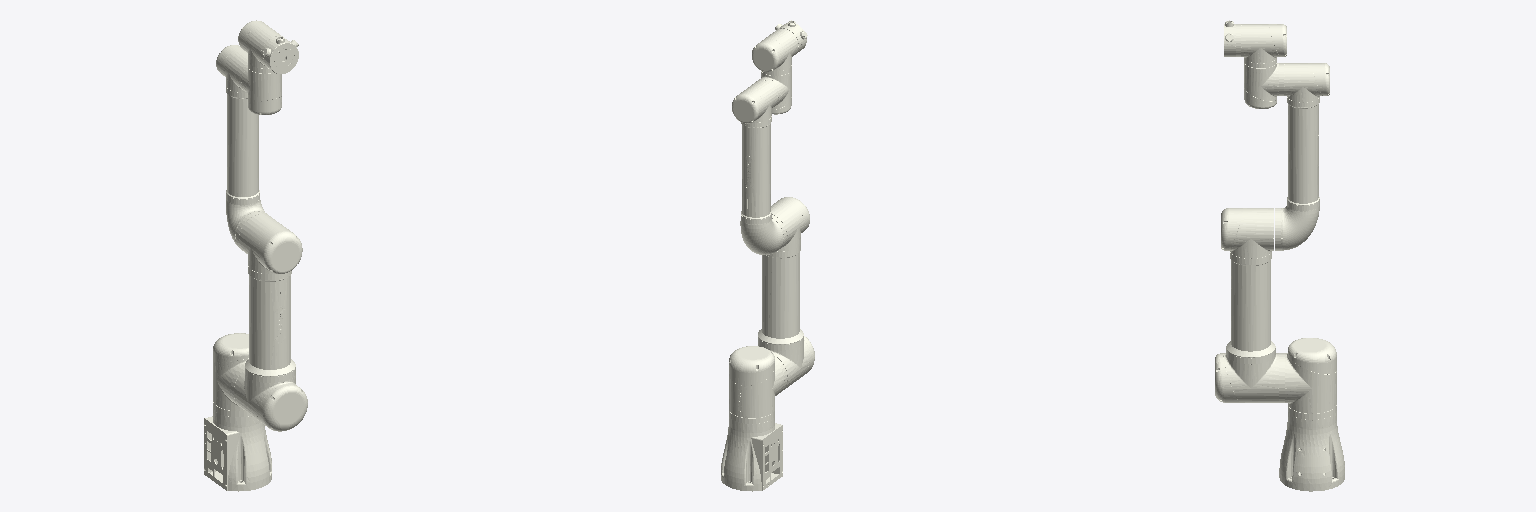
The robot description file, URDF, robot "collrobstd2":
<?xml version="1.0" encoding="utf-8"?>
<robot name="collrobstd2">
  <!-- Link 0 (Base) -->
  <link name="Link0">
    <inertial>
      <origin xyz="0.0085775 0.0001082 0.0602812" rpy="0 0 0" />
      <mass value="0.4745" />
      <inertia ixx="0.0013548" ixy="-7.0711E-07" ixz="9.7579E-05" iyy="0.0011364" iyz="4.5034E-06" izz="0.00092109" />
    </inertial>
    <visual>
      <geometry><mesh filename="meshes/Link0.STL" /></geometry>
      <material name="white"><color rgba="1 1 0.945 1" /></material>
    </visual>
    <collision>
      <geometry><mesh filename="meshes/Link0.STL" /></geometry>
    </collision>
  </link>

  <!-- Joint 1 & Link 1 -->
  <joint name="joint1" type="revolute">
    <origin xyz="0 0 0.2" rpy="1.5708 1.5708 0" />
    <parent link="Link0" />
    <child link="Link1" />
    <axis xyz="1 0 0" />
    <limit lower="-3.054" upper="3.054" effort="50" velocity="3.14" />
  </joint>

  <link name="Link1">
    <inertial>
      <origin xyz="-0.00608 0.0 0.00419" rpy="0 0 0" />
      <mass value="0.8038" />
      <inertia ixx="0.0008805" ixy="0" ixz="8.6181E-05" iyy="0.0008464" iyz="0" izz="0.0008258" />
    </inertial>
    <visual>
      <geometry><mesh filename="meshes/Link1.STL" /></geometry>
      <material name="white" />
    </visual>
    <collision>
      <geometry><mesh filename="meshes/Link1.STL" /></geometry>
    </collision>
  </link>

  <!-- Joint 2 & Link 2 -->
  <joint name="joint2" type="revolute">
    <origin xyz="-0.2995 0 0.01625" rpy="0 0 -1.5708" />
    <parent link="Link1" />
    <child link="Link2" />
    <axis xyz="0 0 -1" />
    <limit lower="-2.094" upper="2.094" effort="50" velocity="3.14" />
  </joint>

  <link name="Link2">
    <inertial>
      <origin xyz="0.0 0.16861 0.09883" rpy="0 0 0" />
      <mass value="2.1259" />
      <inertia ixx="0.0039186" ixy="0" ixz="0" iyy="0.0017835" iyz="4.7E-05" izz="0.0039804" />
    </inertial>
    <visual>
      <geometry><mesh filename="meshes/Link2.STL" /></geometry>
      <material name="white" />
    </visual>
    <collision>
      <geometry><mesh filename="meshes/Link2.STL" /></geometry>
    </collision>
  </link>

  <!-- Joint 3 & Link 3 -->
  <joint name="joint3" type="revolute">
    <origin xyz="0 -0.301 0" rpy="0 0 0" />
    <parent link="Link2" />
    <child link="Link3" />
    <axis xyz="0 0 -1" />
    <limit lower="-2.618" upper="2.618" effort="40" velocity="3.14" />
  </joint>

  <link name="Link3">
    <inertial>
      <origin xyz="0.0 0.14455 0.00184" rpy="0 0 0" />
      <mass value="1.0226" />
      <inertia ixx="0.0020493" ixy="0" ixz="0" iyy="0.0004861" iyz="-2.84E-05" izz="0.0020479" />
    </inertial>
    <visual>
      <geometry><mesh filename="meshes/Link3.STL" /></geometry>
      <material name="white" />
    </visual>
    <collision>
      <geometry><mesh filename="meshes/Link3.STL" /></geometry>
    </collision>
  </link>

  <!-- Joint 4 & Link 4 -->
  <joint name="joint4" type="revolute">
    <origin xyz="0 0 0.07775" rpy="1.5708 1.5708 0" />
    <parent link="Link3" />
    <child link="Link4" />
    <axis xyz="1 0 0" />
    <limit lower="-3.054" upper="3.054" effort="20" velocity="3.14" />
  </joint>

  <link name="Link4">
    <inertial>
      <origin xyz="0.00269 0.0 -0.00483" rpy="0 0 0" />
      <mass value="0.2628" />
      <inertia ixx="0.0001306" ixy="0" ixz="1.158E-05" iyy="0.0001326" iyz="0" izz="0.0001289" />
    </inertial>
    <visual>
      <geometry><mesh filename="meshes/Link4.STL" /></geometry>
      <material name="white" />
    </visual>
    <collision>
      <geometry><mesh filename="meshes/Link4.STL" /></geometry>
    </collision>
  </link>

  <!-- Joint 5 & Link 5 -->
  <joint name="joint5" type="revolute">
    <origin xyz="0 0 0.0785" rpy="-1.5708 0 0" />
    <parent link="Link4" />
    <child link="Link5" />
    <axis xyz="0 1 0" />
    <limit lower="-3.054" upper="3.054" effort="20" velocity="3.14" />
  </joint>

  <link name="Link5">
    <inertial>
      <origin xyz="0.00490 0.00216 0.0" rpy="0 0 0" />
      <mass value="0.2589" />
      <inertia ixx="0.0001272" ixy="-1.158E-05" ixz="0" iyy="0.0001273" iyz="0" izz="0.0001309" />
    </inertial>
    <visual>
      <geometry><mesh filename="meshes/Link5.STL" /></geometry>
      <material name="white" />
    </visual>
    <collision>
      <geometry><mesh filename="meshes/Link5.STL" /></geometry>
    </collision>
  </link>

  <!-- Joint 6 & Link 6 -->
  <joint name="joint6" type="revolute">
    <origin xyz="-0.07825 0 0" rpy="0 0 0" />
    <parent link="Link5" />
    <child link="Link6" />
    <axis xyz="1 0 0" />
    <limit lower="-3.054" upper="3.054" effort="15" velocity="3.14" />
  </joint>

  <link name="Link6">
    <inertial>
      <origin xyz="0.02174 -0.00213 0.00014" rpy="0 0 0" />
      <mass value="0.0352" />
      <inertia ixx="2.088E-05" ixy="0" ixz="0" iyy="1.276E-05" iyz="0" izz="1.280E-05" />
    </inertial>
    <visual>
      <geometry><mesh filename="meshes/Link6.STL" /></geometry>
      <material name="white" />
    </visual>
    <collision>
      <geometry><mesh filename="meshes/Link6.STL" /></geometry>
    </collision>
  </link>
</robot>

--- Render facts (derived) ---
Views: 3 orthographic renders of the robot side by side, from view 1: azimuth 30°, elevation 25°; view 2: azimuth 150°, elevation 25°; view 3: azimuth 270°, elevation 25°.
Model collrobstd2 with 7 links and 6 joints (6 revolute), rooted at Link0, posed every joint at zero.
Links seen in each view (by area): view 1: Link2, Link3, Link0, Link1, Link4, Link5, Link6; view 2: Link2, Link3, Link0, Link1, Link5, Link4; view 3: Link2, Link3, Link0, Link1, Link5, Link4.
Boxes of the visible links, x1,y1,x2,y2 form: Link2: [234, 212, 307, 431]; Link3: [216, 45, 266, 245]; Link0: [204, 402, 271, 491]; Link1: [213, 333, 248, 410]; Link4: [241, 63, 281, 114]; Link5: [238, 20, 285, 68]; Link6: [263, 36, 298, 73]; Link2: [758, 197, 814, 389]; Link3: [732, 78, 783, 254]; Link0: [721, 411, 782, 491]; Link1: [729, 346, 787, 417]; Link5: [752, 26, 800, 71]; Link4: [756, 65, 791, 114]; Link2: [1215, 208, 1280, 402]; Link3: [1279, 63, 1329, 250]; Link0: [1279, 405, 1344, 491]; Link1: [1279, 338, 1336, 413]; Link5: [1236, 24, 1286, 63]; Link4: [1244, 58, 1283, 108].
Size in the robot's own frame: 0.107 by 0.2378 by 0.9159 metres.
7 mesh visuals loaded from 7 distinct referenced files (7 binary STL).
